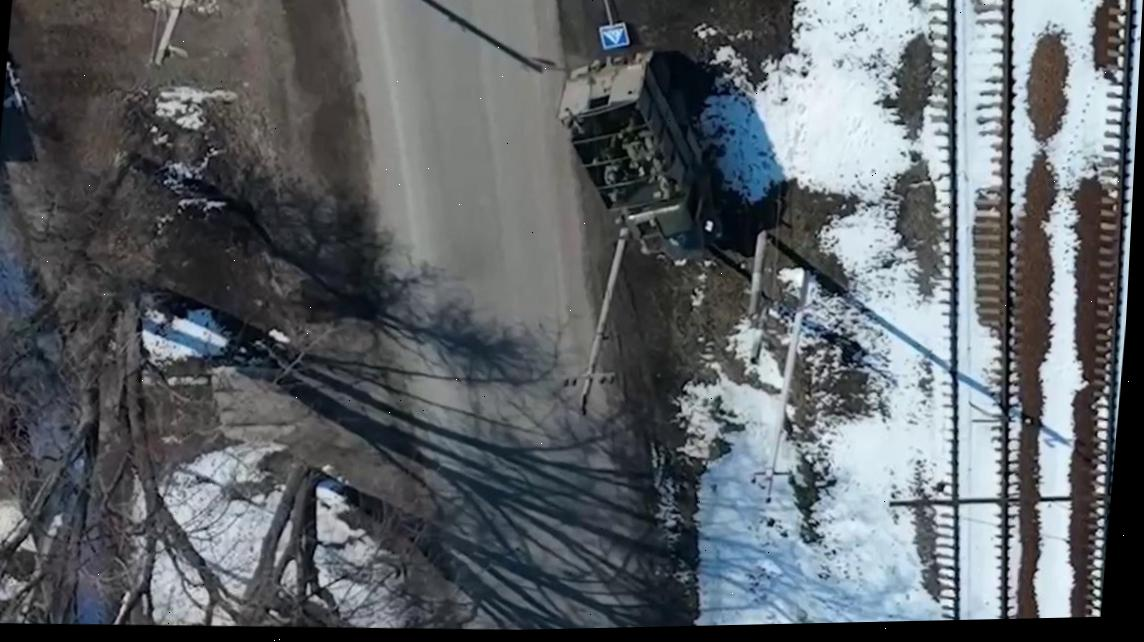truck: (546, 43, 736, 264)
